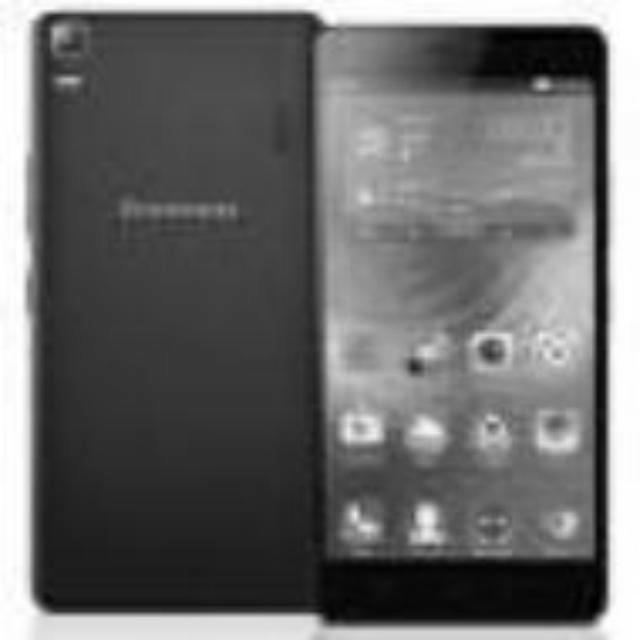fake: (25, 19, 318, 624), (316, 24, 604, 628)
